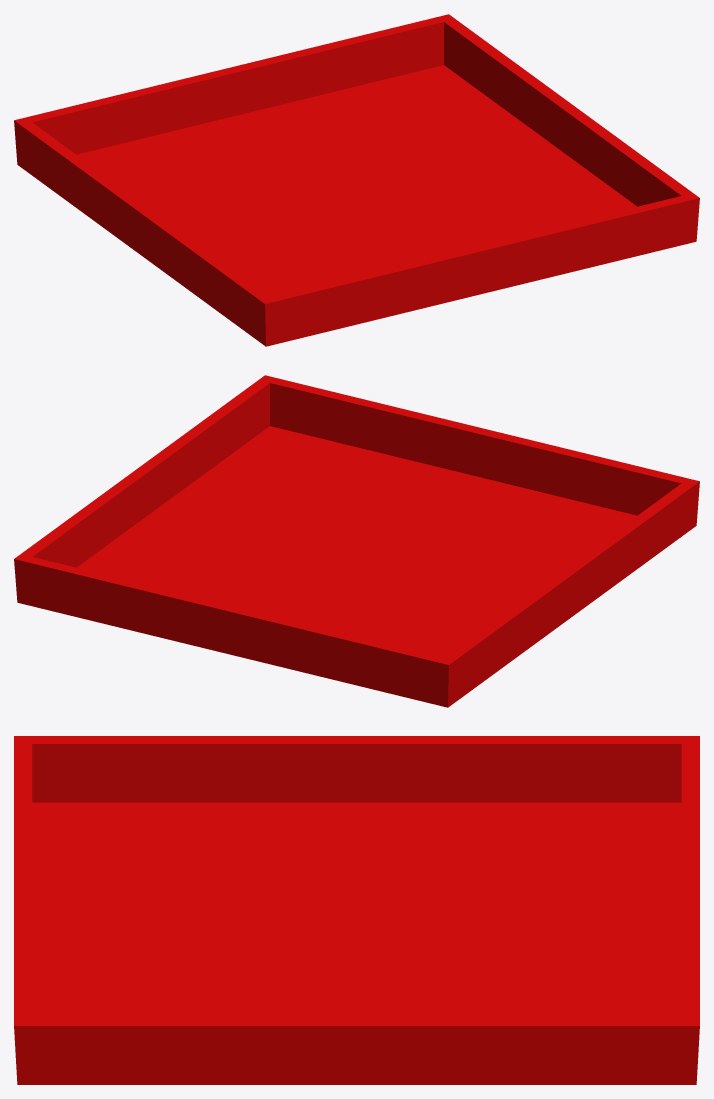
Rendered from PoolModel.fbx.
3 renders of one model, top to bottom at view 1: azimuth 30°, elevation 25°; view 2: azimuth 150°, elevation 25°; view 3: azimuth 270°, elevation 25°, orthographic. The views are drawn at different scales.
Visible parts, largest first — view 1: Cube; view 2: Cube; view 3: Cube.
Part boxes in pixels (x1,y1,x2,y2): Cube: [14, 14, 699, 346]; Cube: [14, 375, 699, 707]; Cube: [14, 736, 699, 1084].
Size of the model in its own units: 845 by 81.85 by 845.
